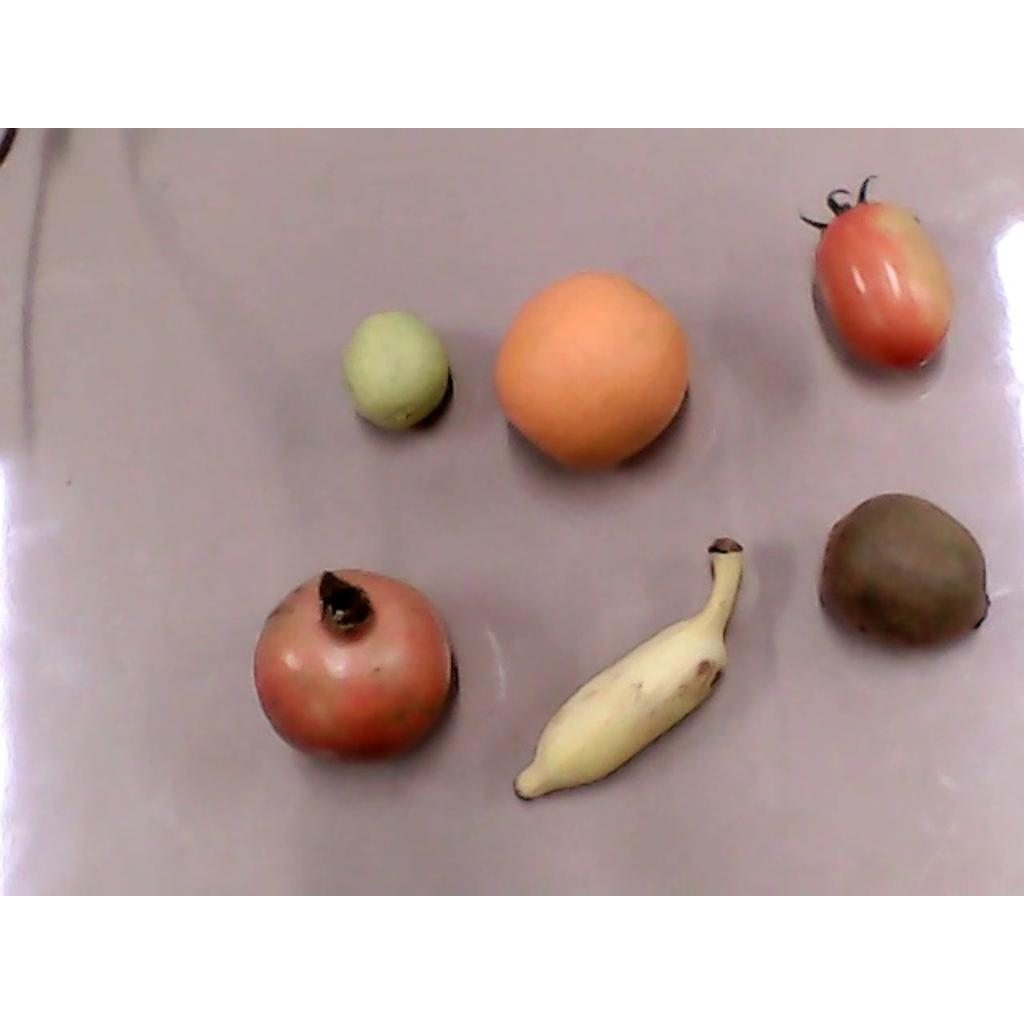kiwi: (818, 490, 996, 659)
lemon: (341, 310, 449, 431)
orange: (494, 271, 690, 470)
pomegranate: (252, 568, 452, 764)
tomato: (798, 174, 952, 371)
